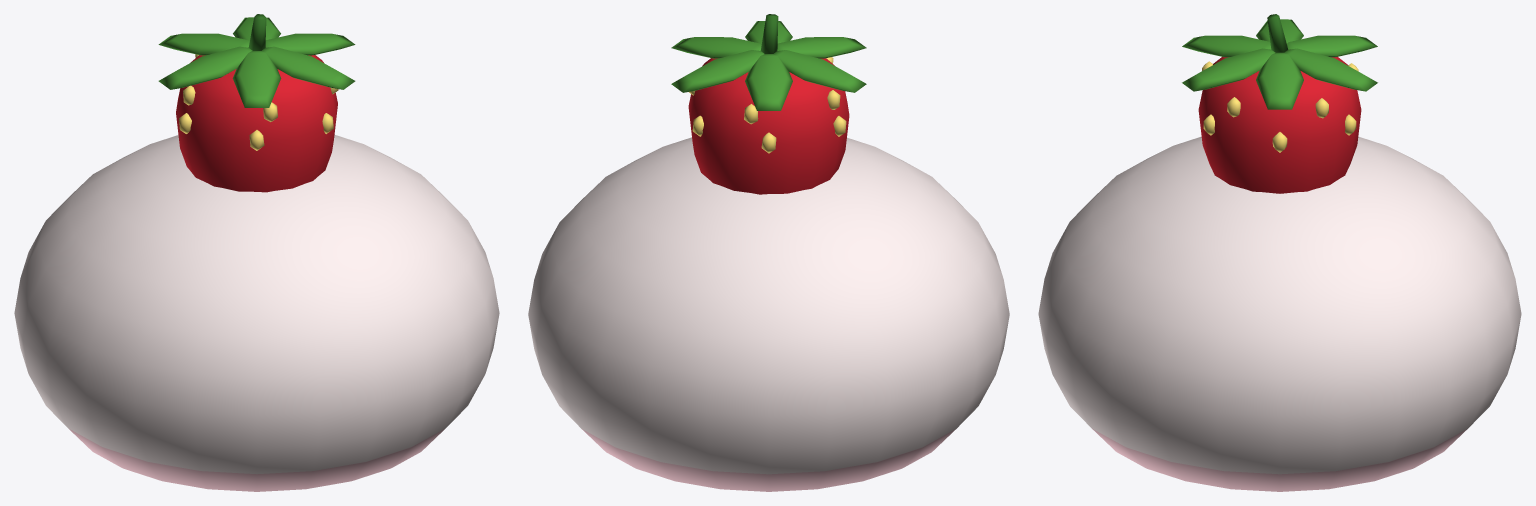
The model's file is strawberry_daifuku.glb.
The picture shows the model from 3 angles, left to right: view 1: azimuth 30°, elevation 25°; view 2: azimuth 150°, elevation 25°; view 3: azimuth 270°, elevation 25°; orthographic projection.
Visible parts, largest first — view 1: StrawberryDaifuku; view 2: StrawberryDaifuku; view 3: StrawberryDaifuku.
Boxes of the visible parts, x1,y1,x2,y2 form: StrawberryDaifuku: [14, 14, 499, 491]; StrawberryDaifuku: [528, 14, 1009, 491]; StrawberryDaifuku: [1038, 14, 1521, 491].
Bounding box in the file's own units: 2 × 1.81 × 2.
1 material, 1 textured.
